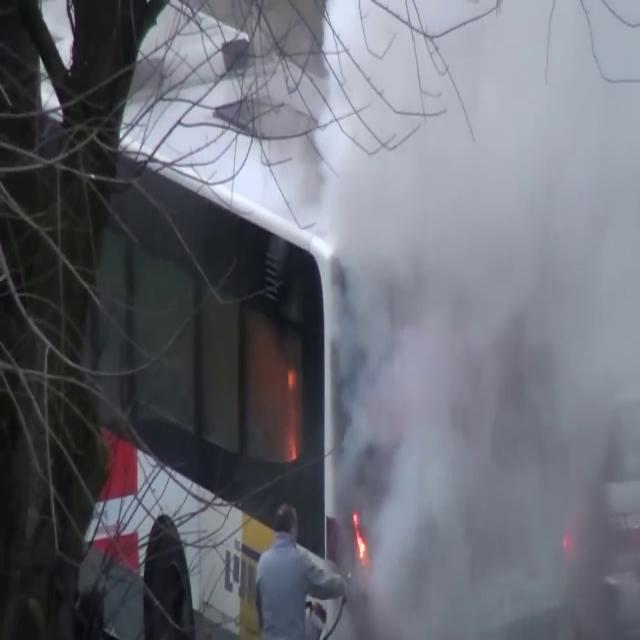Smoke: (312, 1, 640, 636)
